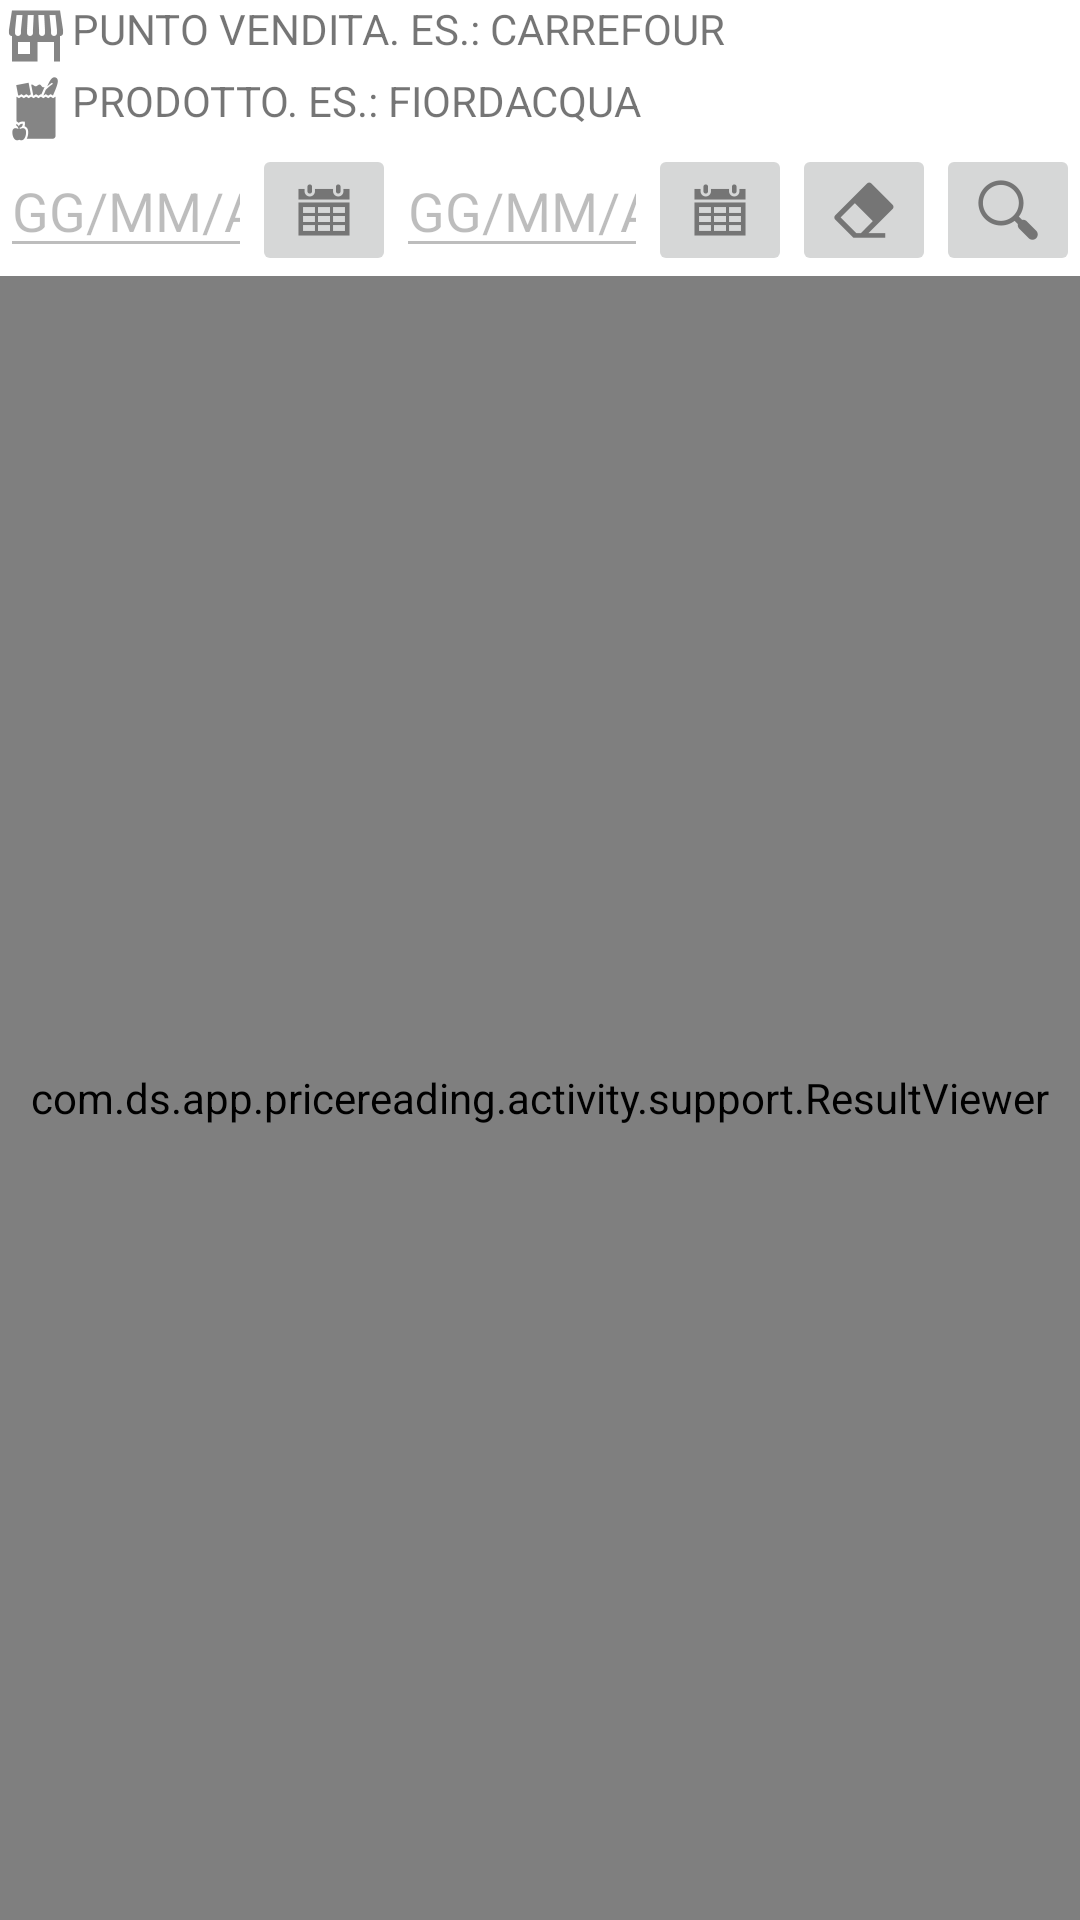

Screen size 1080px×1920px. Icon name, then its center in pixels as [x,y]:
calendar: [324,210], [720,210]
clear: [864,210]
grocerybag: [35,109]
search: [1008,210]
shop: [36,36]
